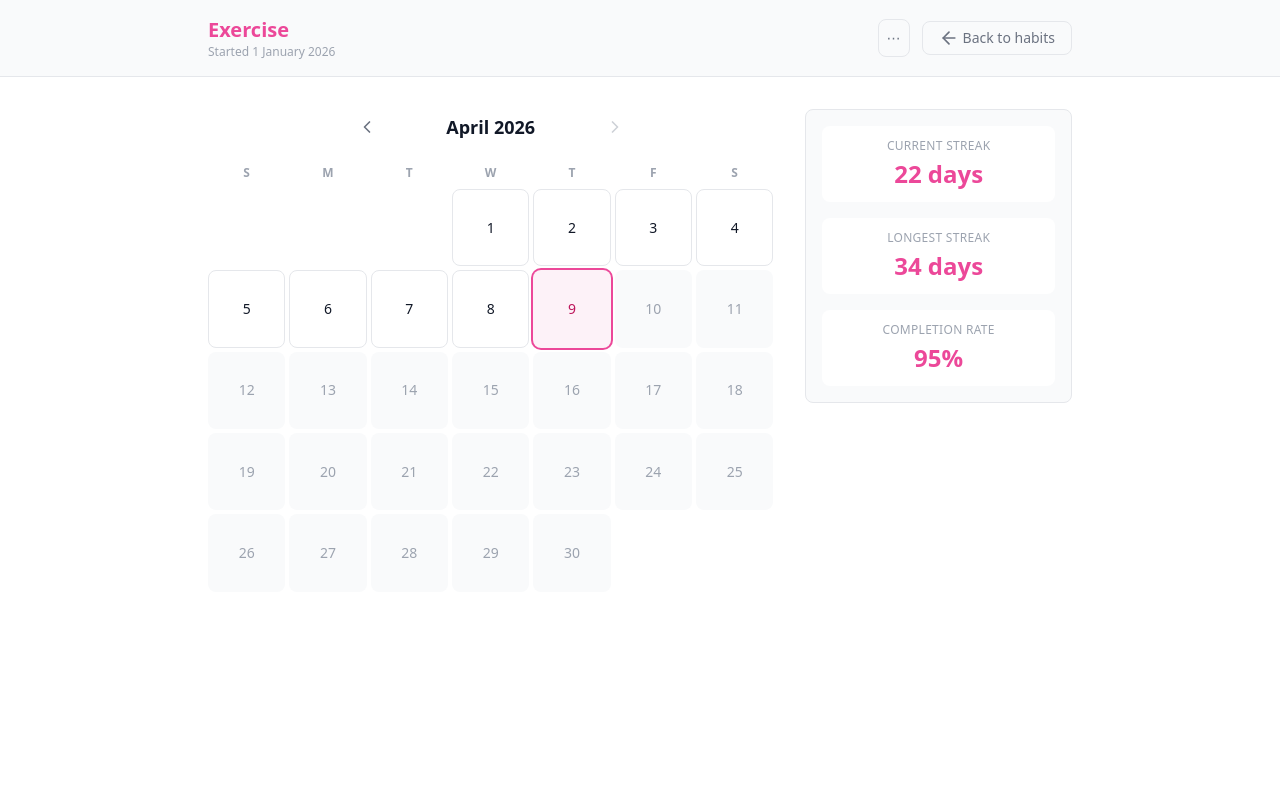
Scenario: HabitCalendarPage › updates habit name via edit modal
Expected: the heading "Exercise" is shown, [208,16,289,44]
Click the button named "habit settings" at (894, 38), box [878,19,910,57]
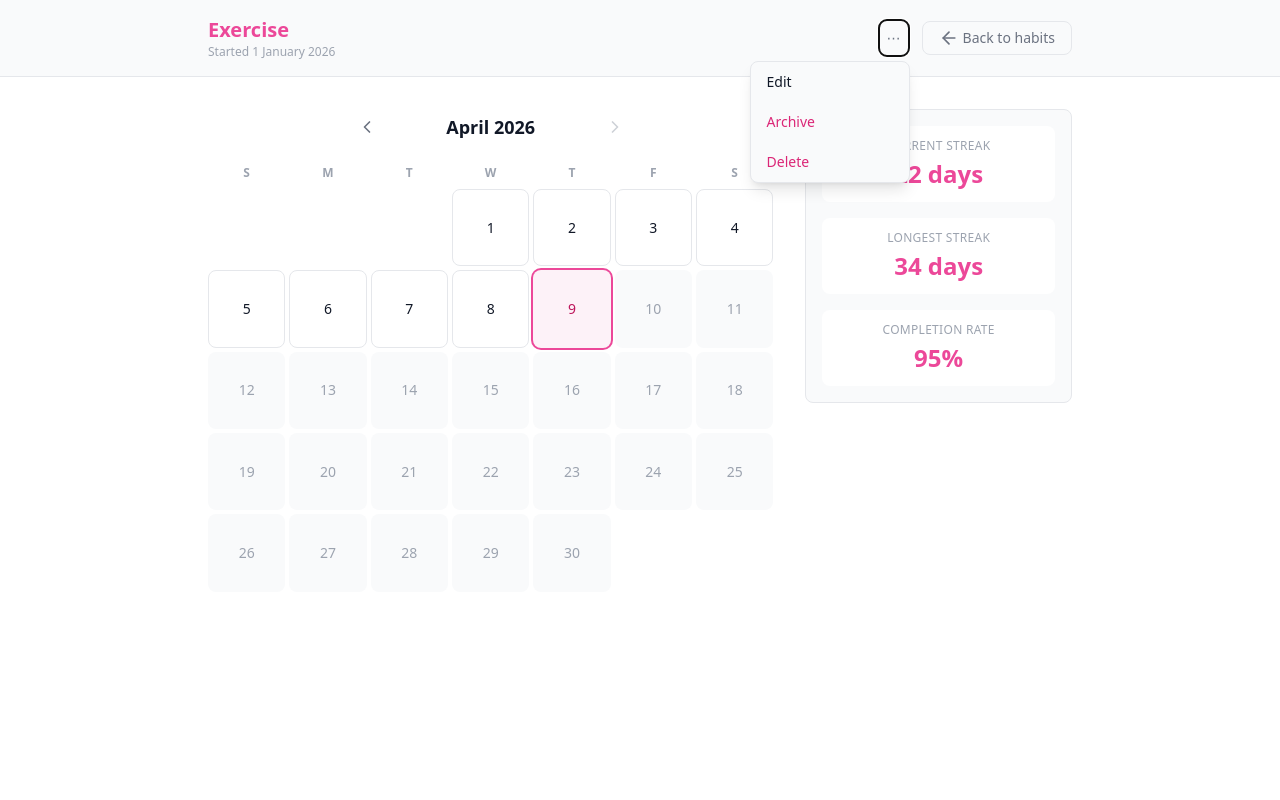
Click the menu item "Edit" at (830, 82), box [750,62,908,102]
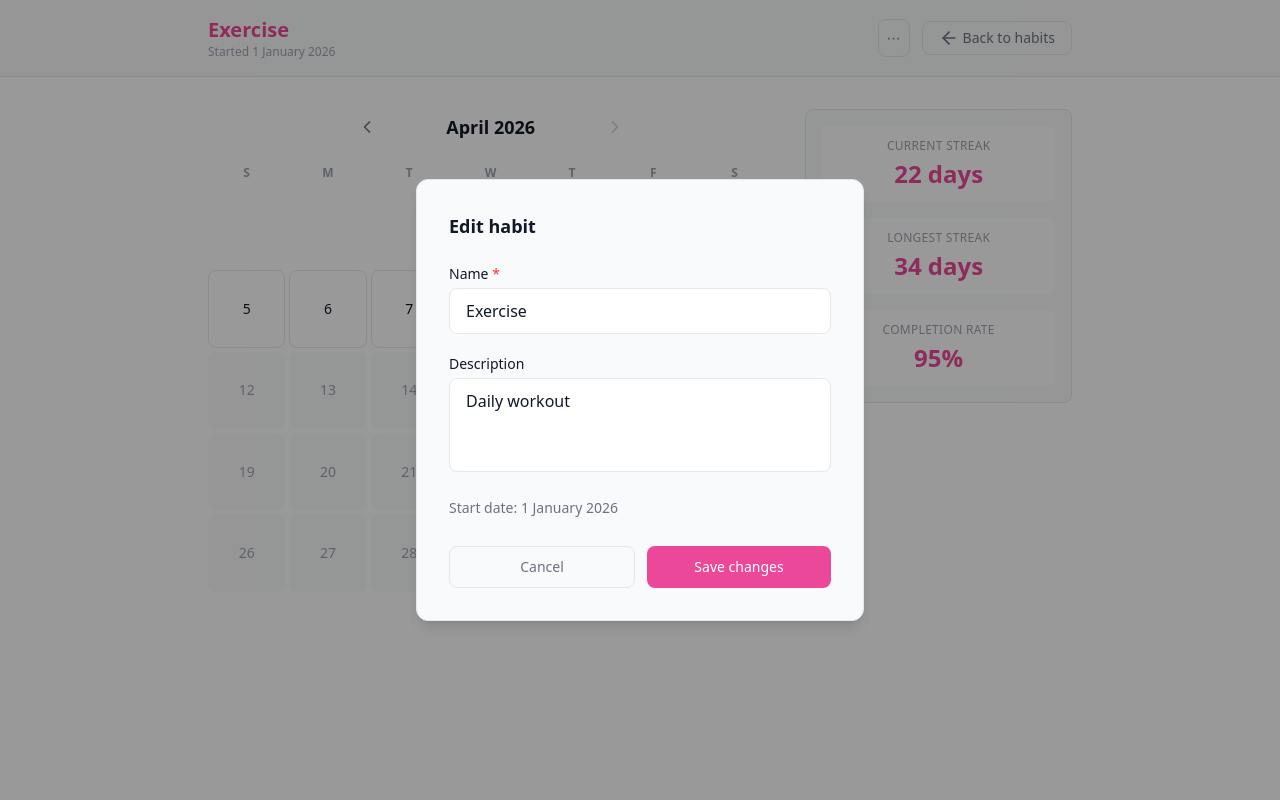
Replace the text in the field labelled "Name *" with "Morning Run" at (640, 311), box [449,288,831,334]
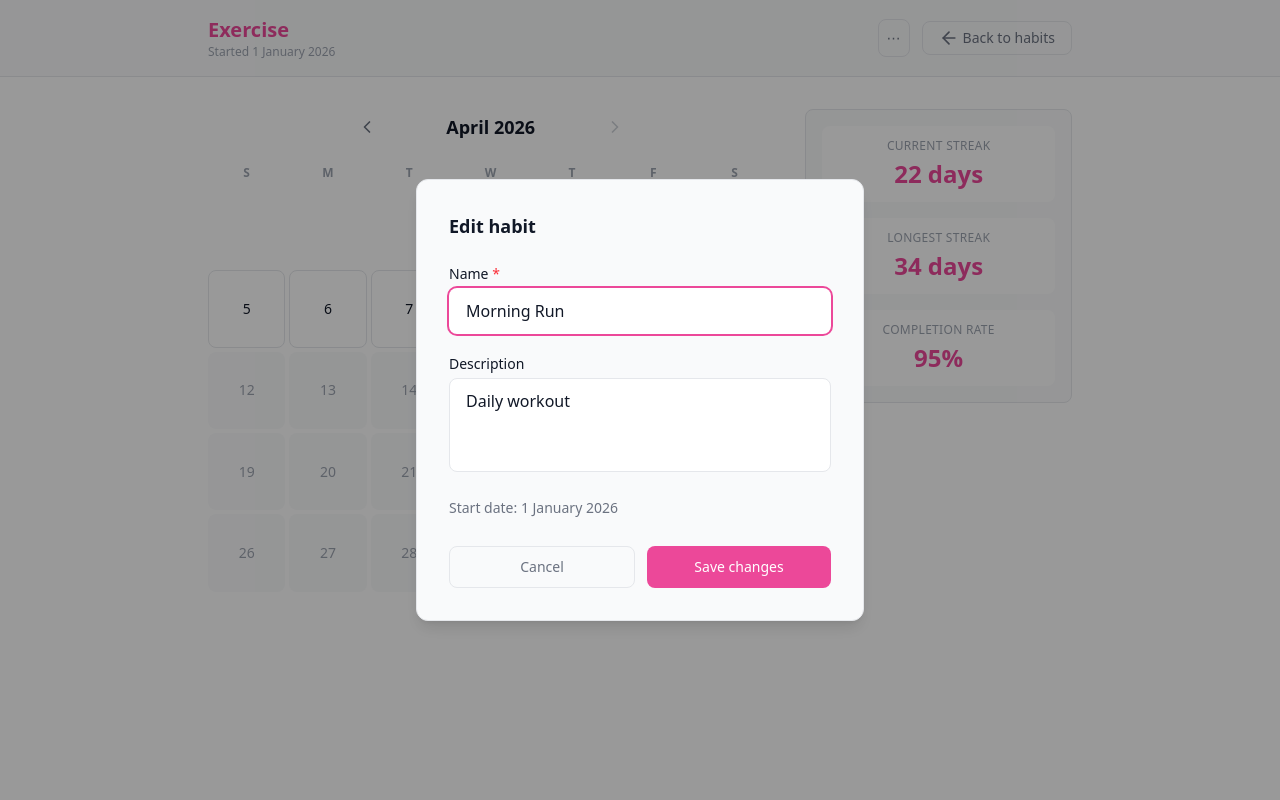
Click the button "Save changes" at (739, 567), box [647,546,831,588]
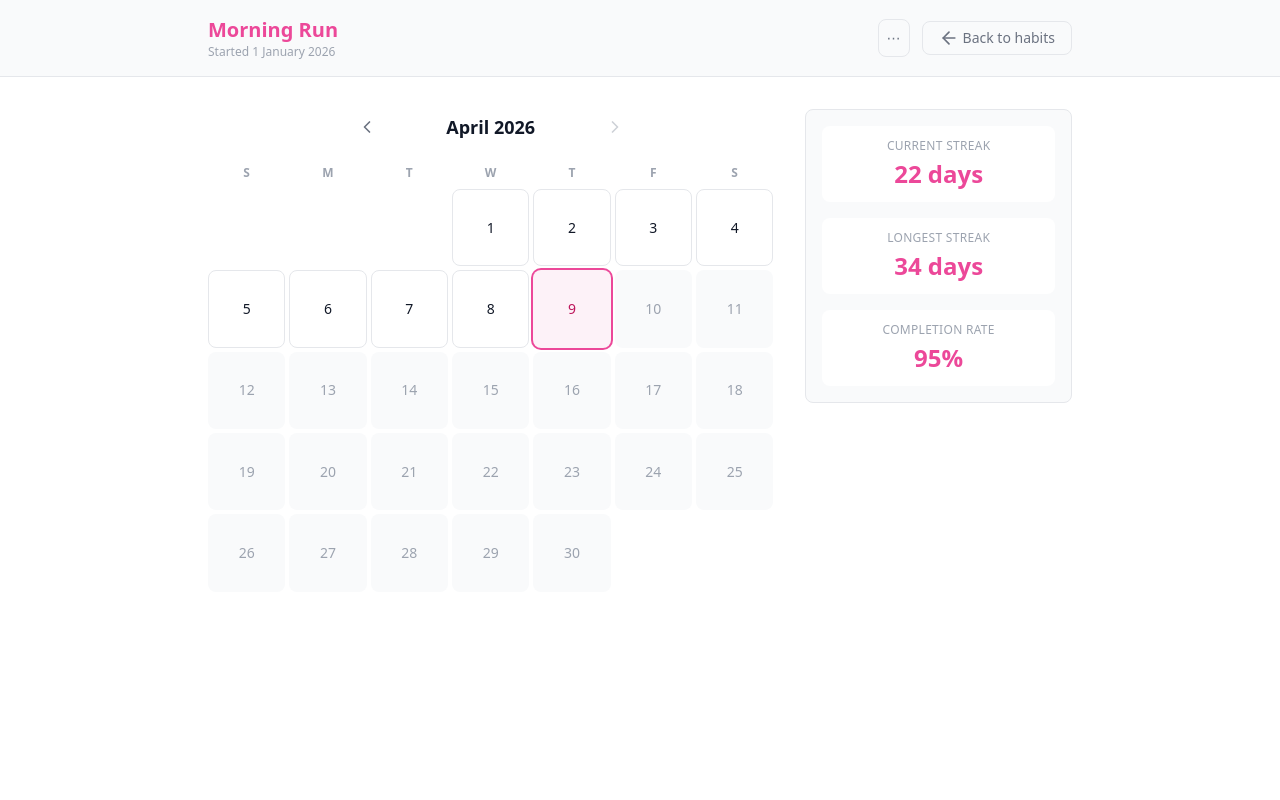
Expected: the heading "Morning Run" is shown, [208,16,338,44]
Expected: the heading "Edit habit" is gone
